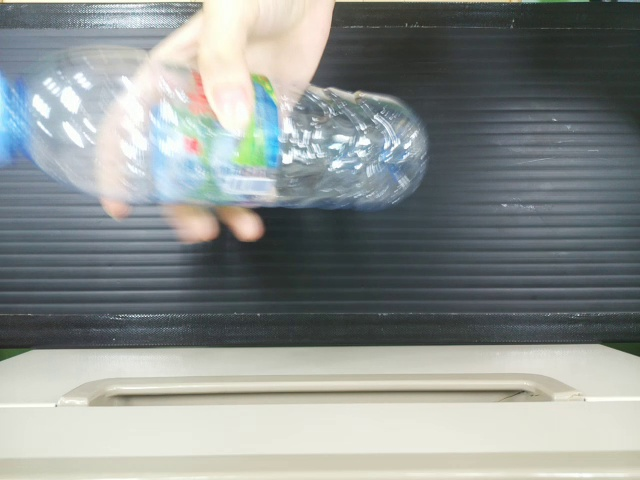bottle: (0, 36, 430, 208)
